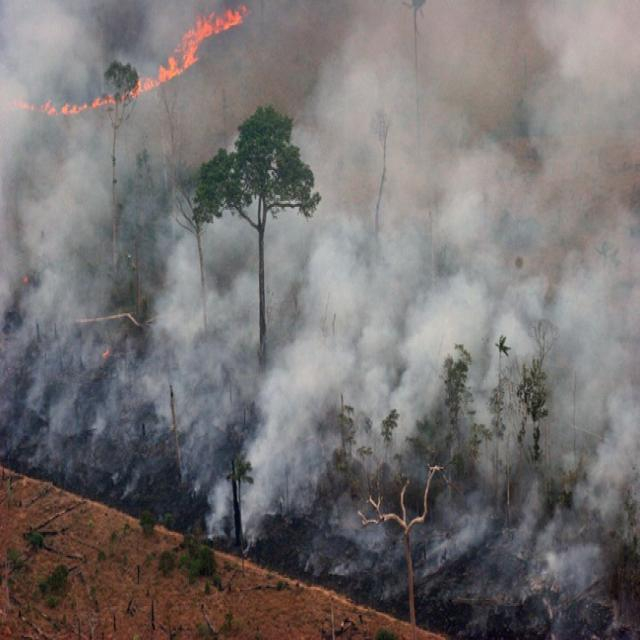Fire: (183, 8, 249, 40), (32, 95, 94, 118), (156, 60, 190, 90)
Smoke: (375, 7, 640, 340), (270, 222, 349, 390)
